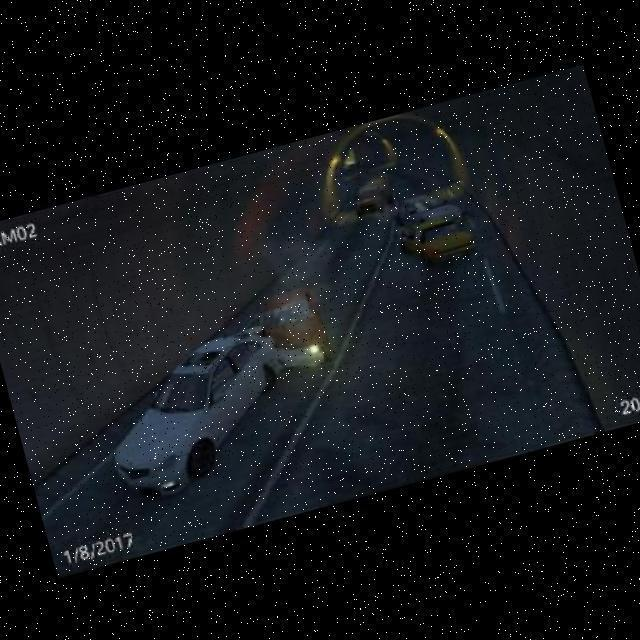accident: (71, 275, 360, 510)
